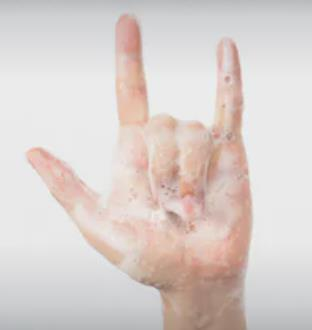back: (23, 8, 257, 286)
